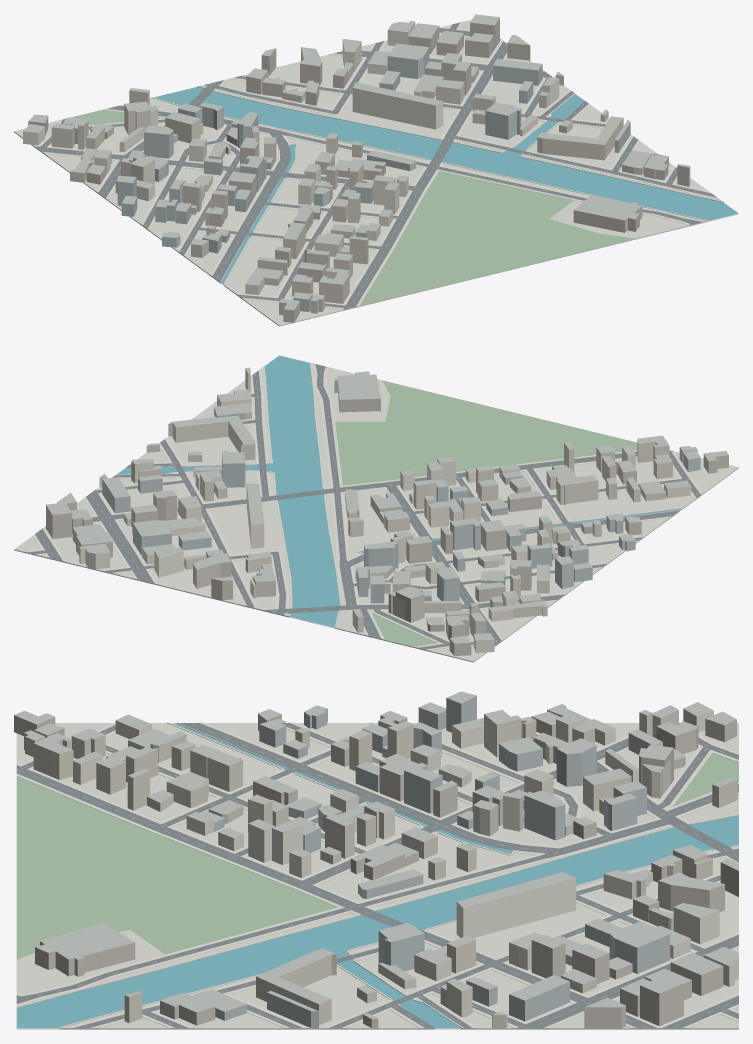
3 renders of one model, top to bottom at view 1: azimuth 30°, elevation 25°; view 2: azimuth 150°, elevation 25°; view 3: azimuth 270°, elevation 25°, orthographic. The views are drawn at different scales.
Parts seen in each view (by area): view 1: city; view 2: city; view 3: city.
Boxes of the visible parts, <box> form: city: <box>14,14,738,326</box>; city: <box>14,355,738,662</box>; city: <box>14,691,738,1029</box>.
Size of the model in its own units: 510 by 26 by 502.
